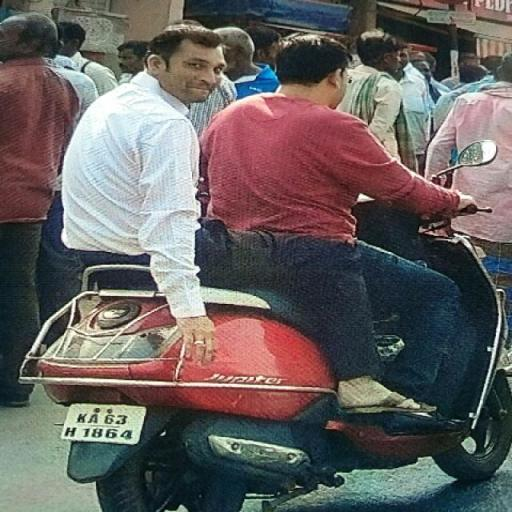bike: (17, 21, 512, 512)
numberplate: (62, 398, 147, 447)
withouthelmet: (152, 25, 222, 95), (277, 34, 346, 101)
